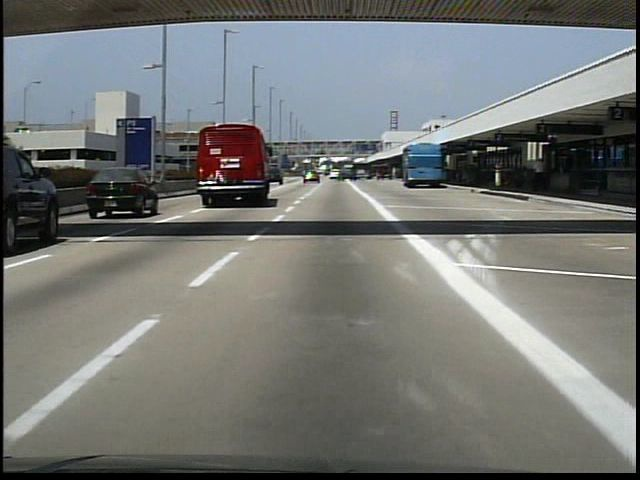person: (533, 157, 547, 193)
